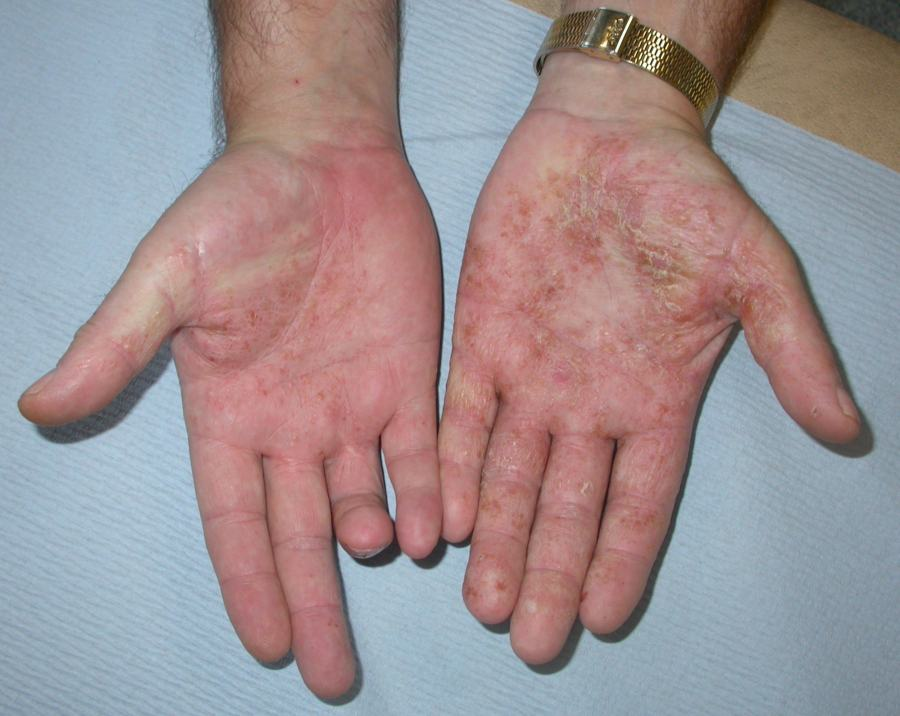Eczema: (517, 130, 708, 478), (190, 171, 393, 458)
